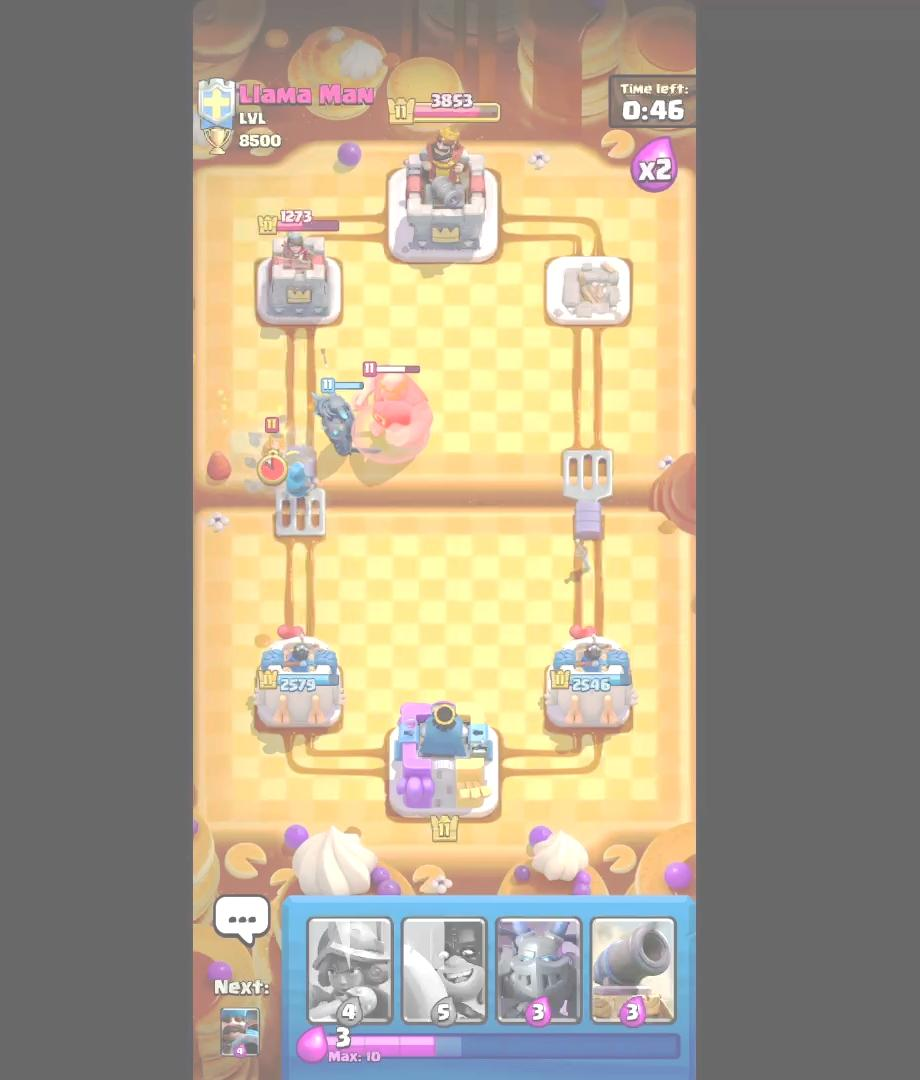Giant: (354, 354, 431, 463)
Valkyrie: (252, 414, 291, 485)
